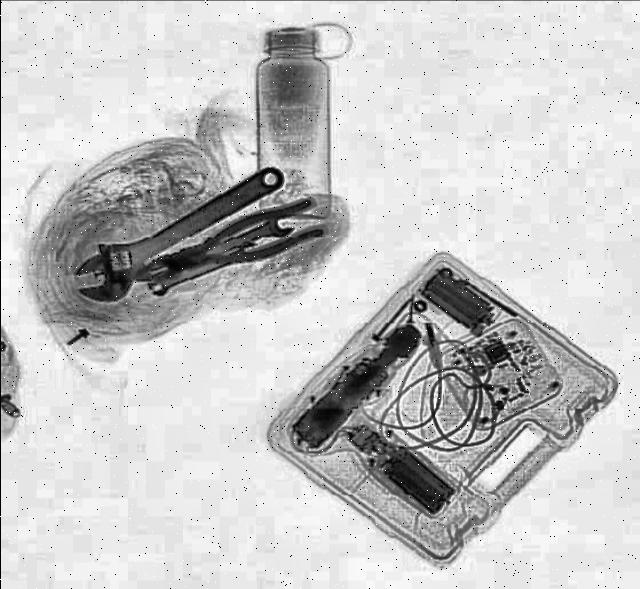Pliers: (126, 196, 330, 300)
Wrench: (61, 147, 300, 315), (146, 238, 262, 302), (204, 214, 296, 264)
